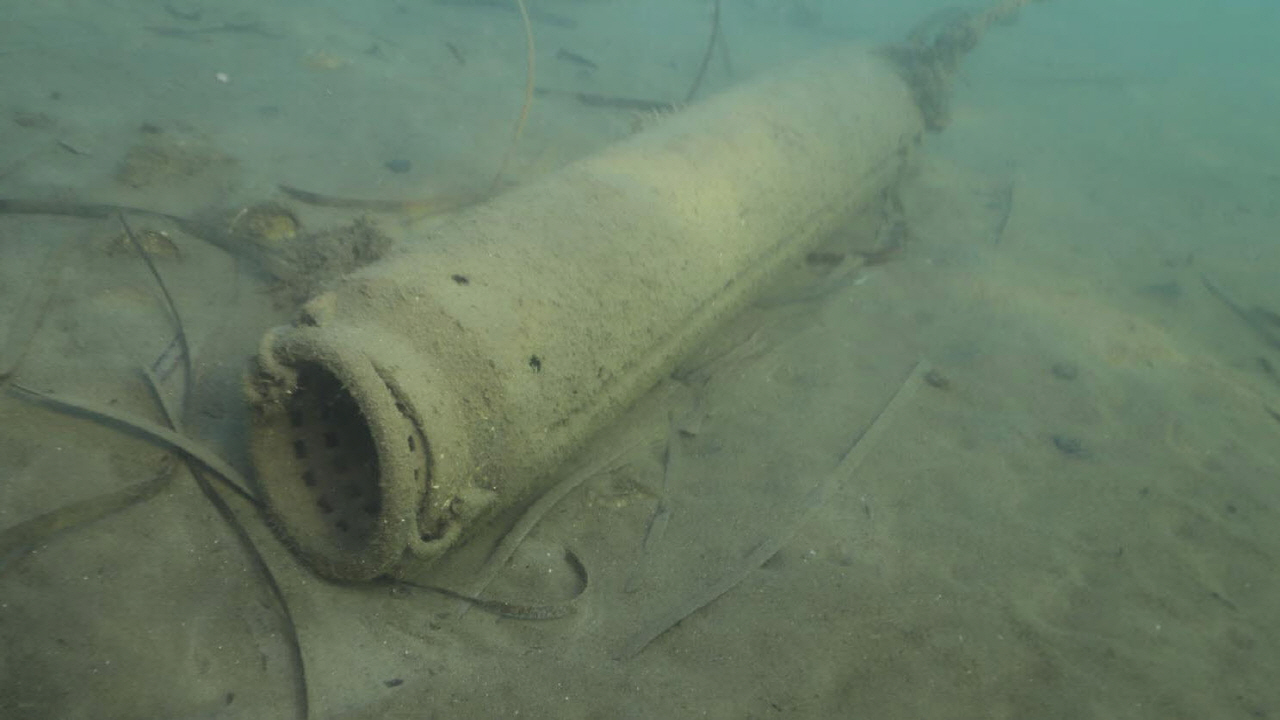bundle of ropes: (871, 0, 1021, 127)
eel fish trap: (240, 45, 924, 584)
